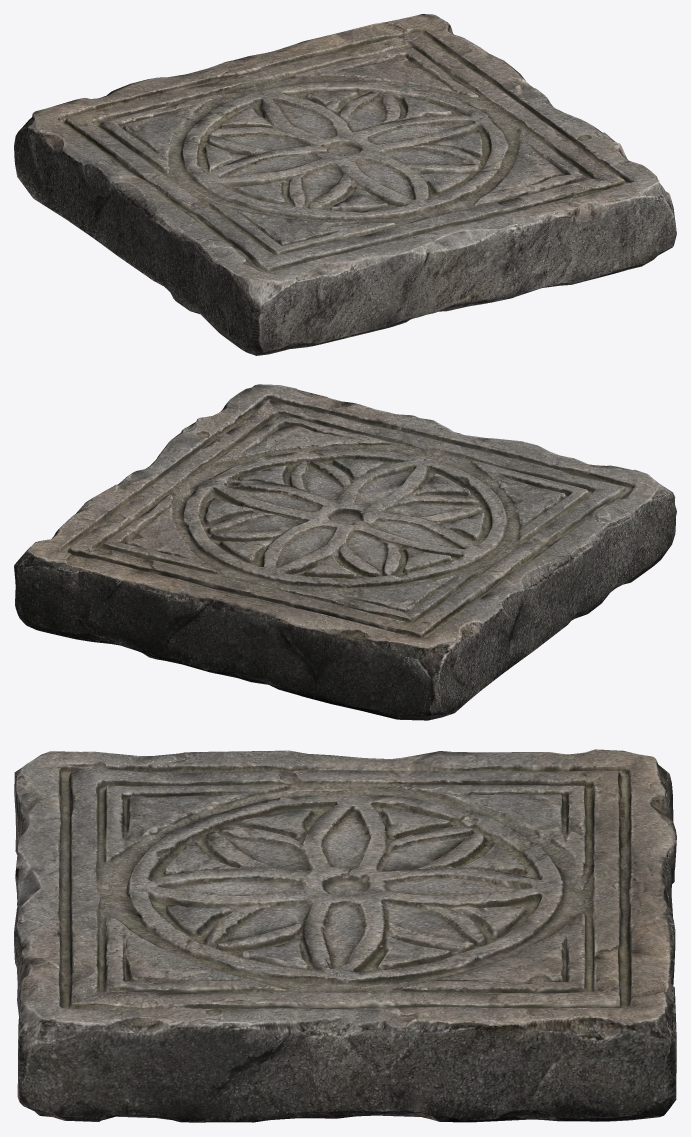
3 renders of one model, top to bottom at view 1: azimuth 30°, elevation 25°; view 2: azimuth 150°, elevation 25°; view 3: azimuth 270°, elevation 25°, orthographic. The views are drawn at different scales.
Parts seen in each view (by area): view 1: tripo_node_082be856-2474-4211-b874-699fc2904cb6; view 2: tripo_node_082be856-2474-4211-b874-699fc2904cb6; view 3: tripo_node_082be856-2474-4211-b874-699fc2904cb6.
Part boxes in pixels (x1=…): tripo_node_082be856-2474-4211-b874-699fc2904cb6: x1=14, y1=14, x2=676, y2=355; tripo_node_082be856-2474-4211-b874-699fc2904cb6: x1=14, y1=384, x2=676, y2=720; tripo_node_082be856-2474-4211-b874-699fc2904cb6: x1=14, y1=749, x2=676, y2=1122.
Bounding box in the file's own units: 0.9783 × 0.1717 × 0.9784.
1 material, 1 textured.
